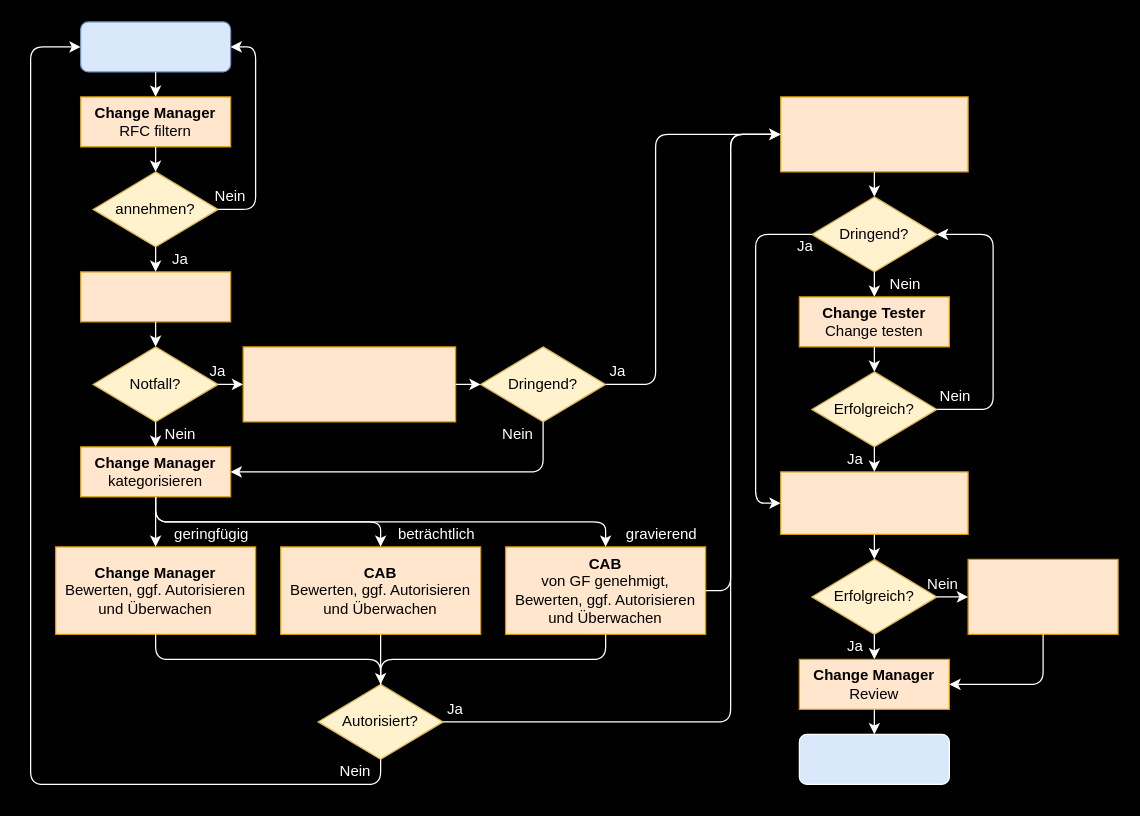
The diagram is 1140 pixels wide and 816 high, and some of its shapes have lost their labels. Here are the shapes that lost their labels. From the top down, the centre of each, then its label:
point 155,46: Change initiieren
point 873,134: Change Builder Change, Back out, Test planen und realisieren
point 155,296: Change Manager priorisieren
point 349,384: ECAB Auswirkungen, Ressourcen und Dringlichkeit bewerten
point 873,502: Change Manager freigeben, Implemen-tierung überwachen
point 1042,596: Change Manager Back out Plan implementieren
point 873,758: Change schließen
